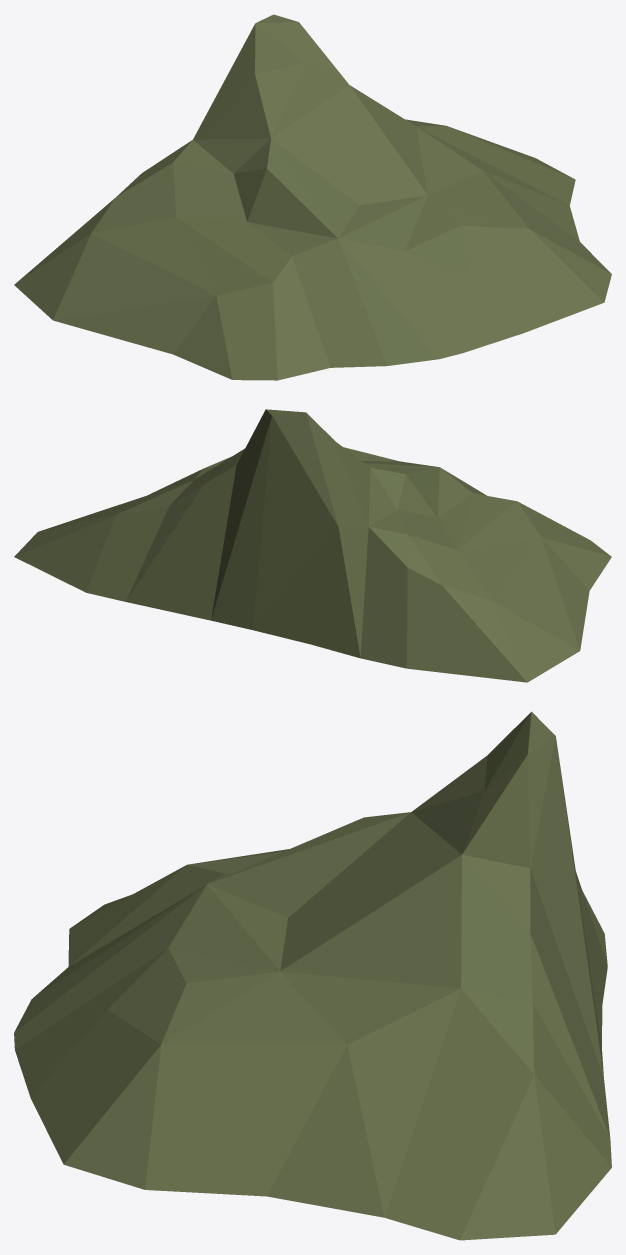
Rendered from SM_Env_Grass_WallEdge_02.fbx.
The picture shows the model from 3 angles, top to bottom: view 1: azimuth 30°, elevation 25°; view 2: azimuth 150°, elevation 25°; view 3: azimuth 270°, elevation 25°; orthographic projection. The views are drawn at different scales.
Visible parts, largest first — view 1: SM_Env_Grass_WallEdge_02; view 2: SM_Env_Grass_WallEdge_02; view 3: SM_Env_Grass_WallEdge_02.
Part boxes in pixels (x1,y1,x2,y2): SM_Env_Grass_WallEdge_02: (14, 14, 611, 380); SM_Env_Grass_WallEdge_02: (14, 409, 611, 682); SM_Env_Grass_WallEdge_02: (14, 711, 611, 1240).
Size of the model in its own units: 903 by 340 by 586.
